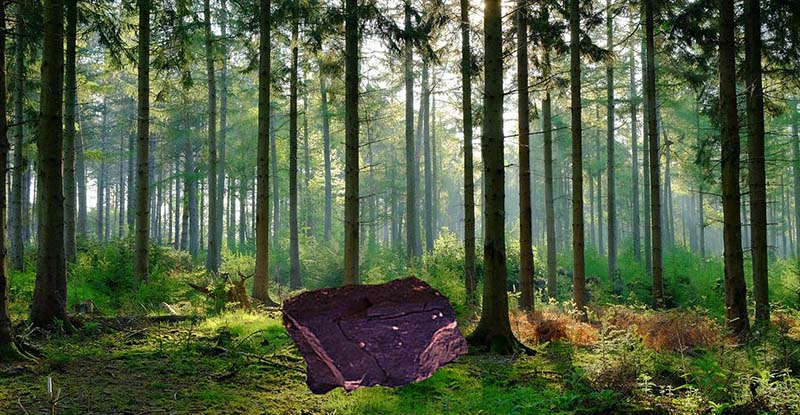Rocks: (277, 273, 470, 398)
